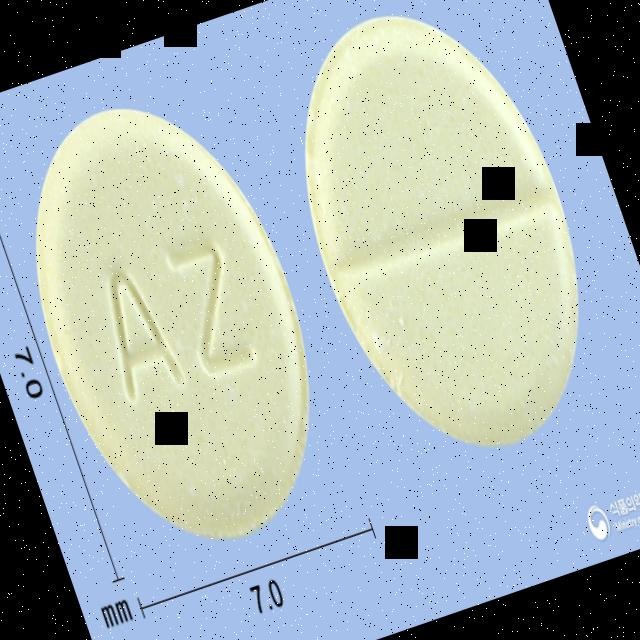Azafrine Tab: (0, 64, 368, 583)
